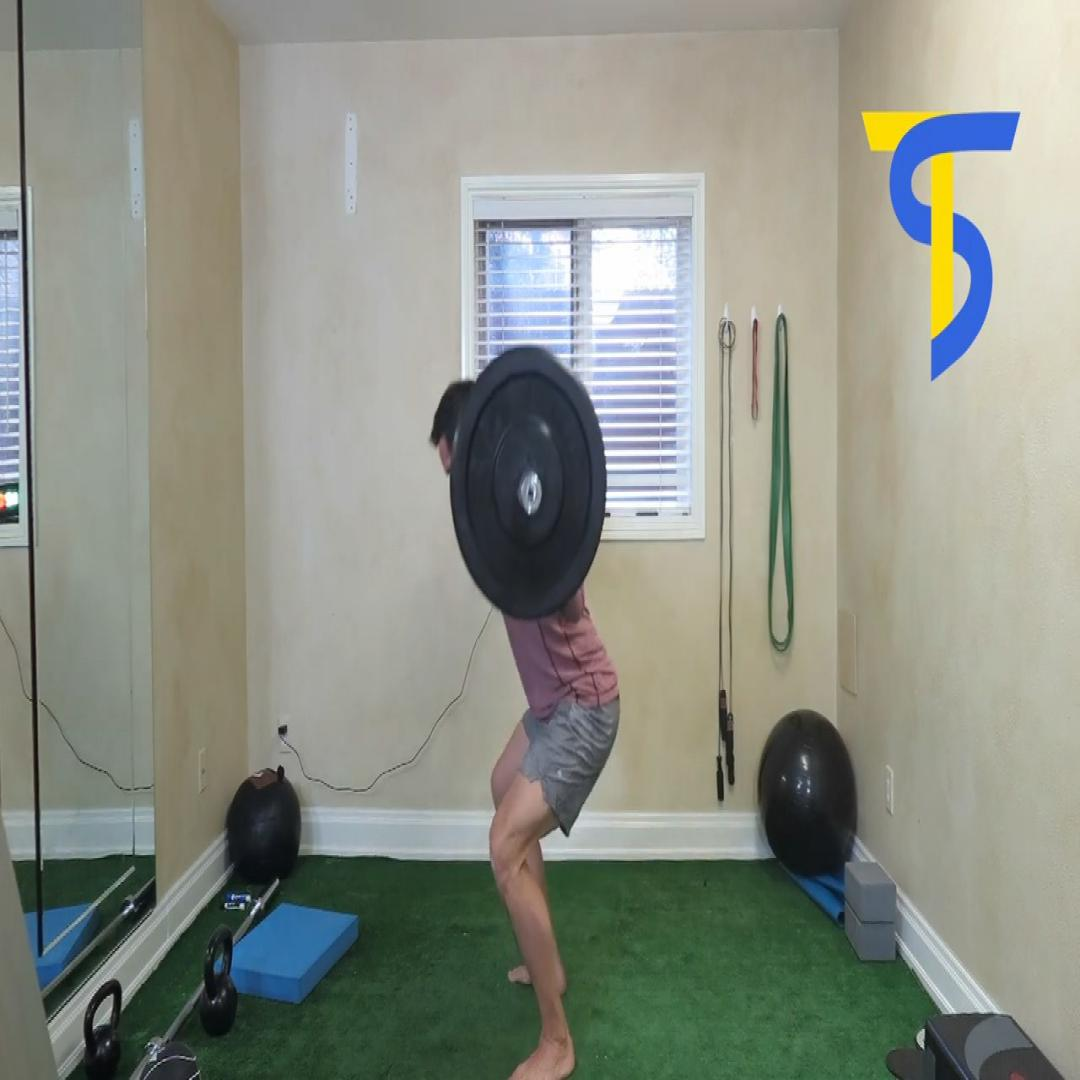Bar: (518, 470, 543, 516)
Barbell: (450, 348, 606, 621)
